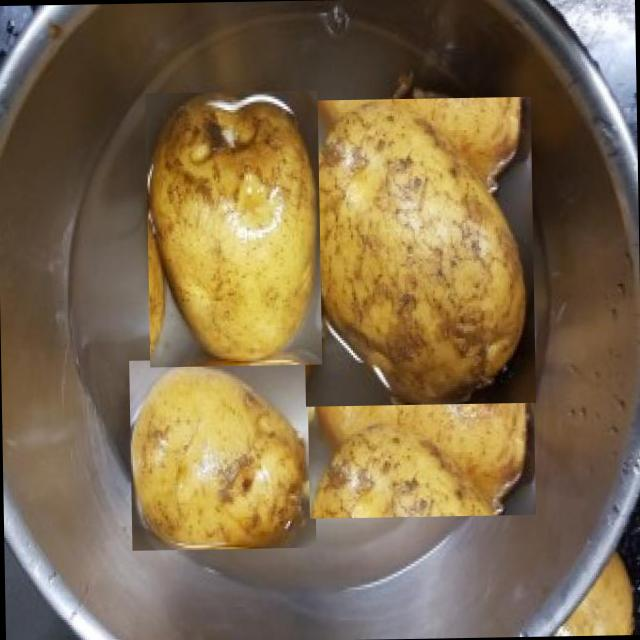Diseased-fungal potato: (300, 96, 536, 406), (145, 90, 322, 367), (129, 357, 316, 550)
Potato: (306, 306, 536, 518)
